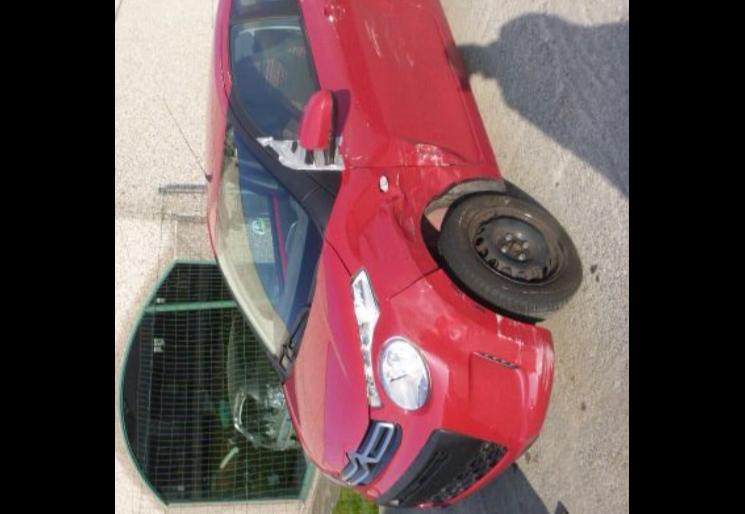Broken part: (256, 136, 346, 170)
Dent: (346, 166, 472, 300), (390, 274, 492, 358), (496, 318, 554, 412), (394, 138, 464, 168)
Scratch: (528, 342, 556, 408), (495, 312, 526, 362), (385, 20, 415, 66), (412, 140, 450, 164), (364, 12, 382, 56), (512, 320, 538, 342), (344, 148, 372, 166), (438, 168, 461, 188), (516, 368, 526, 406), (396, 140, 408, 164), (216, 58, 224, 88), (406, 214, 417, 234), (418, 166, 426, 180), (394, 174, 402, 186), (226, 68, 232, 84), (328, 14, 334, 22)
